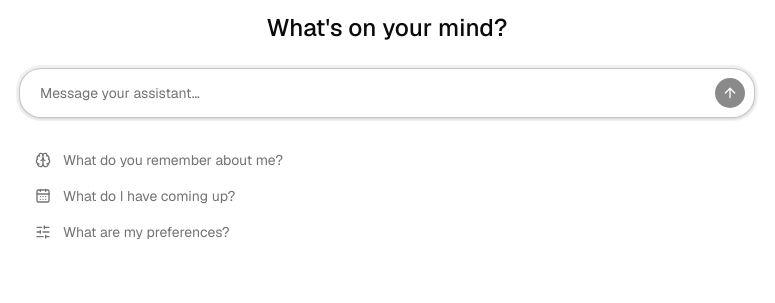
Test: a chat that cannot be created is reported, and nothing is sent
In the text box labelled "Message": (373, 93) [40,77,706,109], type "Hello"
Then press Enter
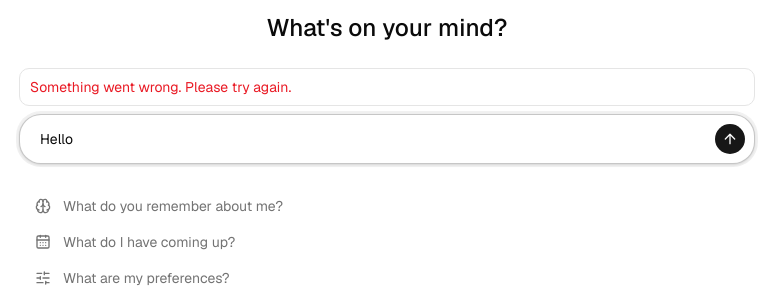
Now the message "Something went wrong. Please try again." is shown, box [19,68,755,106]
